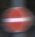No entry: (5, 6, 30, 32)
